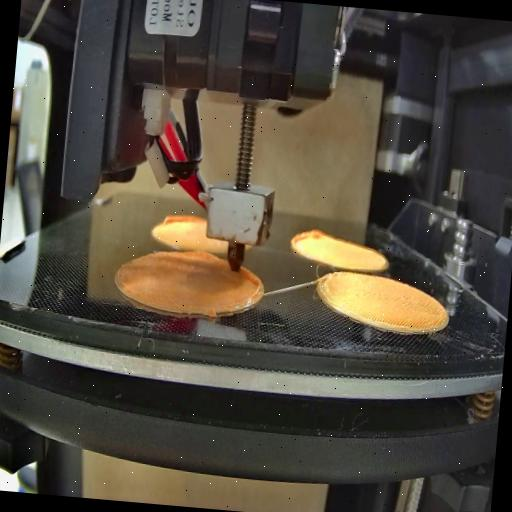over_extrusion: (289, 226, 323, 262), (238, 268, 264, 300), (162, 210, 200, 230), (186, 248, 220, 264)
